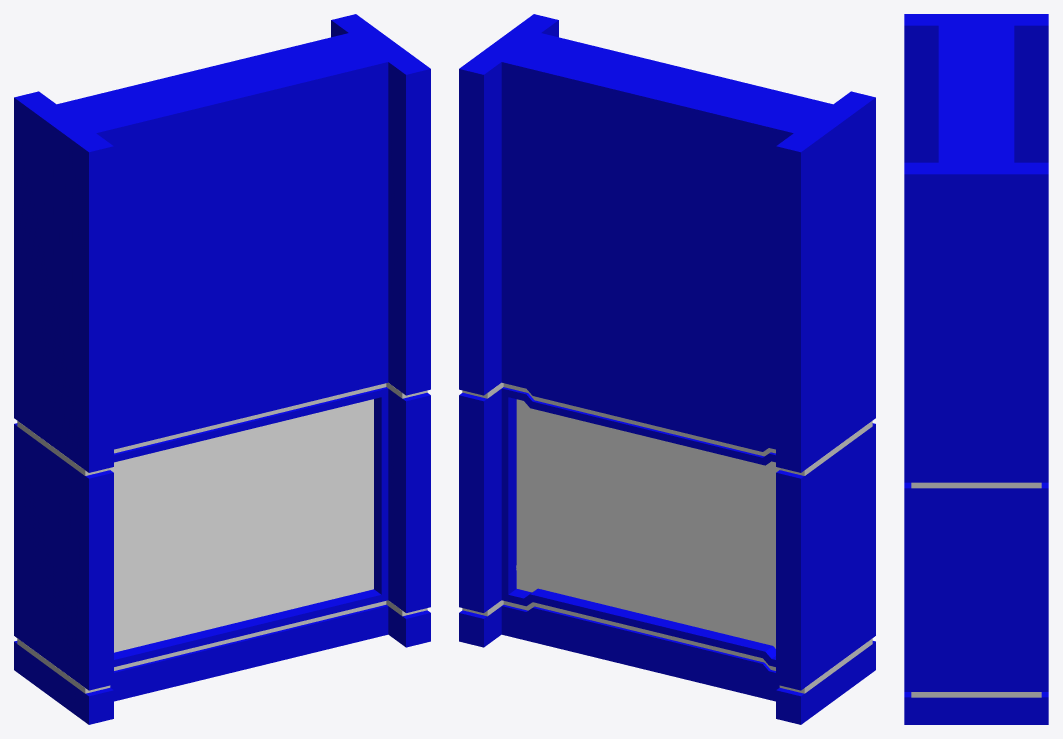
Rendered from WallsV2_Window1x1Merged.fbx.
3 renders of one model, left to right at view 1: azimuth 30°, elevation 25°; view 2: azimuth 150°, elevation 25°; view 3: azimuth 270°, elevation 25°, orthographic. The views are drawn at different scales.
Visible parts, largest first — view 1: WallV2_Window_1x1_Combined; view 2: WallV2_Window_1x1_Combined; view 3: WallV2_Window_1x1_Combined.
Boxes of the visible parts, <box> form: WallV2_Window_1x1_Combined: <box>14,14,430,724</box>; WallV2_Window_1x1_Combined: <box>459,14,875,724</box>; WallV2_Window_1x1_Combined: <box>904,14,1048,724</box>.
Bounding box in the file's own units: 500 × 800 × 190.
